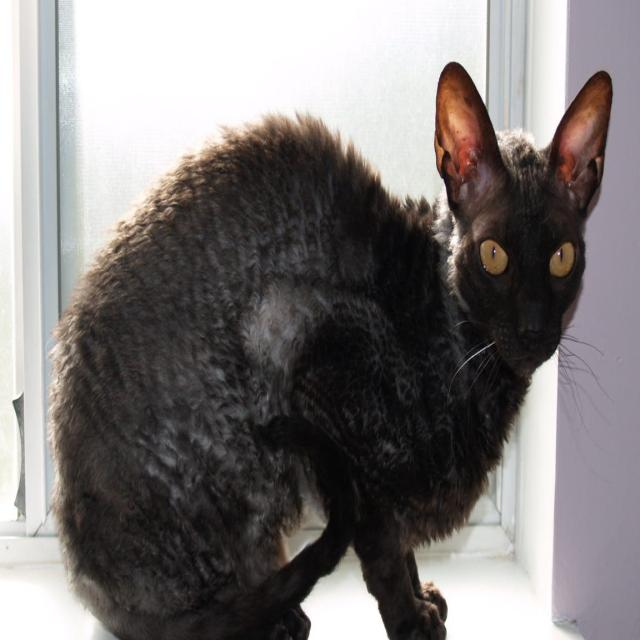Cornish Rex: (45, 49, 620, 640)
